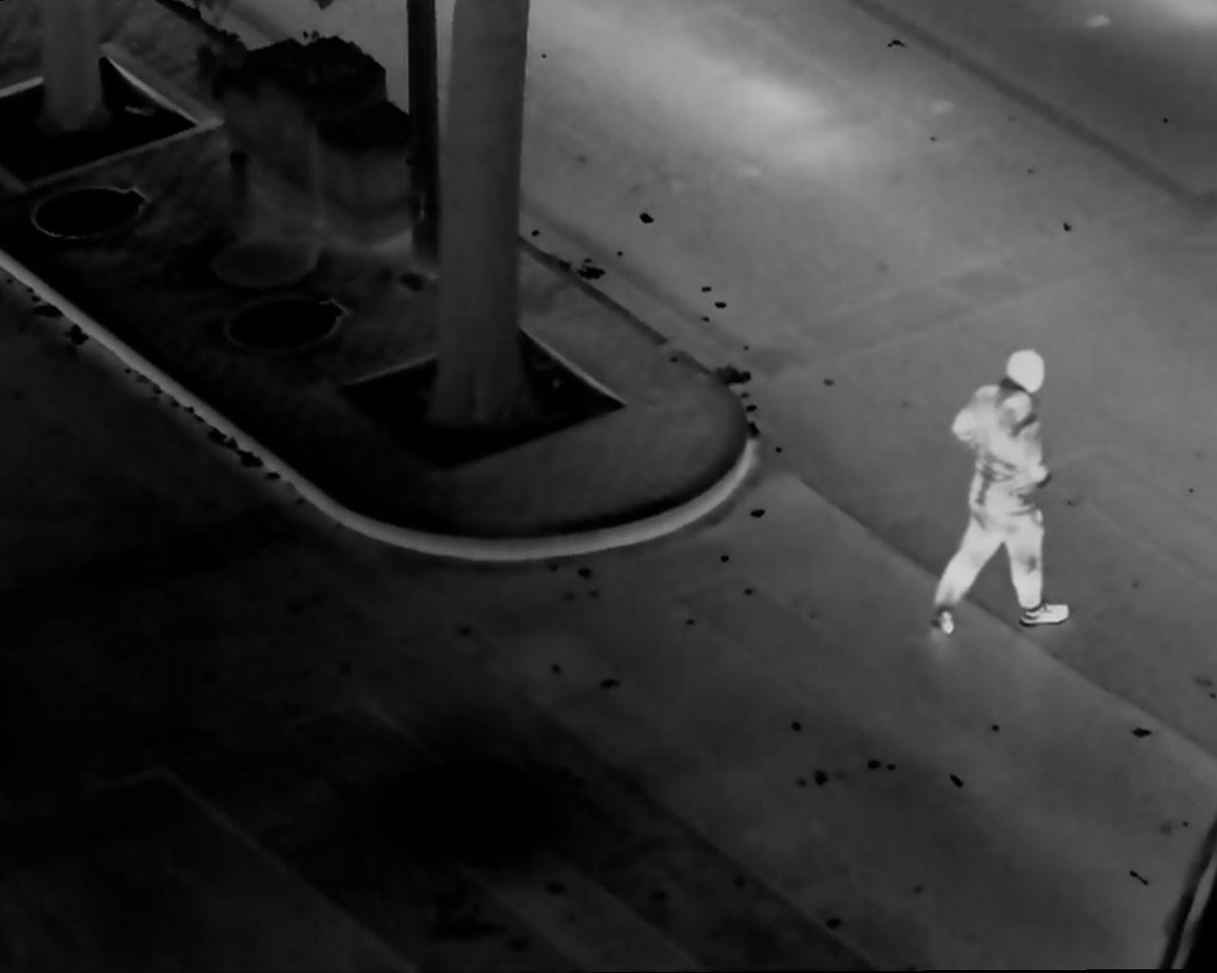person: (929, 346, 1074, 629)
